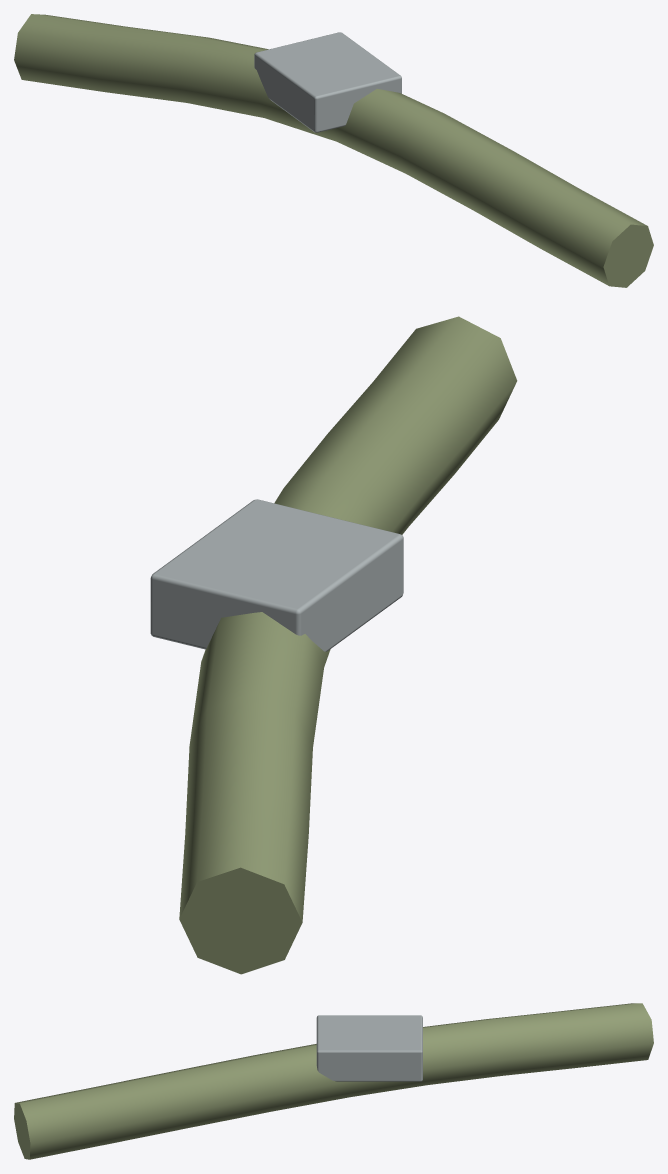
The model's file is backpacks-and-expedition-storage-load-lifter-strap-34c41212__21103.glb.
The picture shows the model from 3 angles, top to bottom: view 1: azimuth 30°, elevation 25°; view 2: azimuth 150°, elevation 25°; view 3: azimuth 270°, elevation 25°; orthographic projection. The views are drawn at different scales.
Parts seen in each view (by area): view 1: load-lifter-strap; view 2: load-lifter-strap; view 3: load-lifter-strap.
Boxes of the visible parts, x1,y1,x2,y2 form: load-lifter-strap: [14, 14, 653, 287]; load-lifter-strap: [150, 316, 517, 974]; load-lifter-strap: [14, 1003, 653, 1159].
Size of the model in its own units: 0.1497 by 0.049 by 0.3314.
